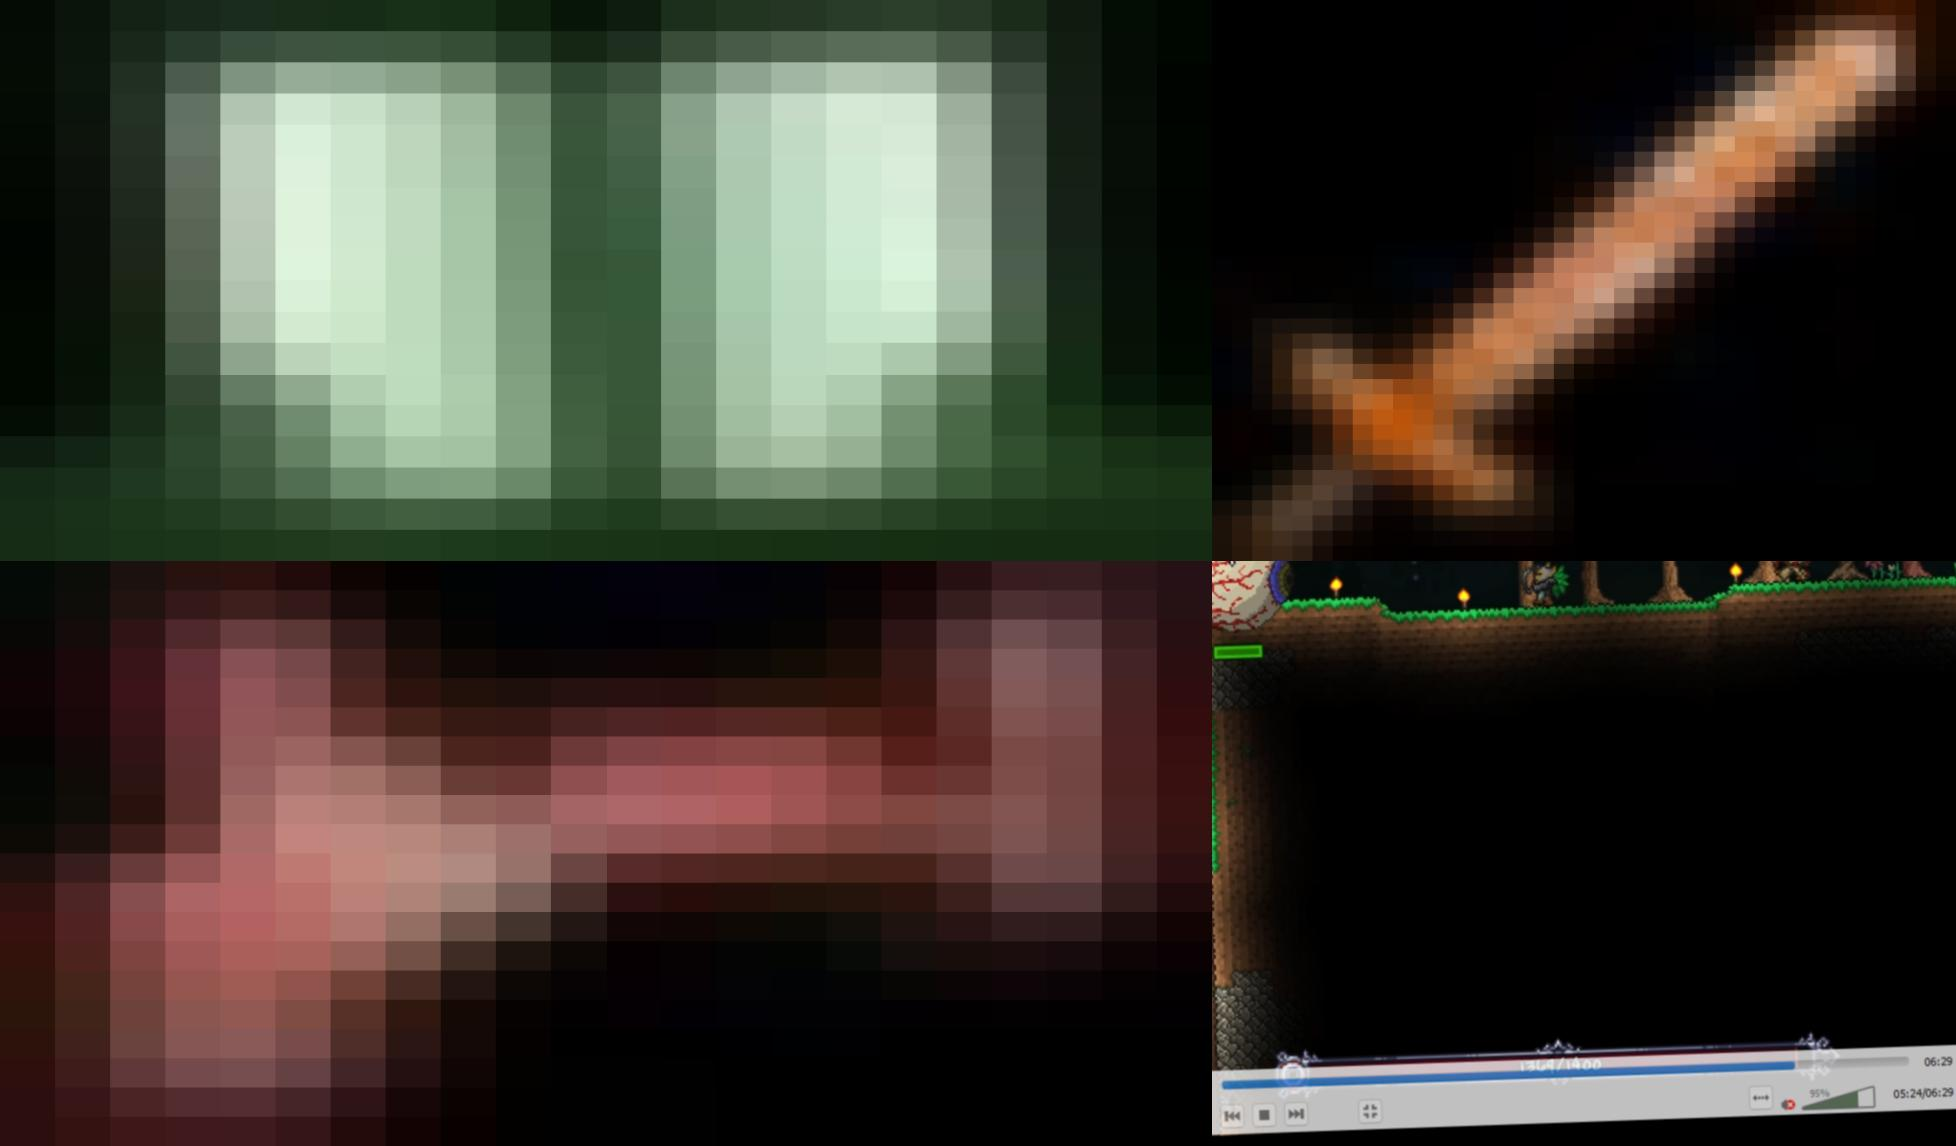eyeC: (1213, 561, 1297, 638)
helmet: (0, 561, 1213, 1146)
legs: (0, 0, 1213, 561)
sword: (1213, 0, 1956, 561)
